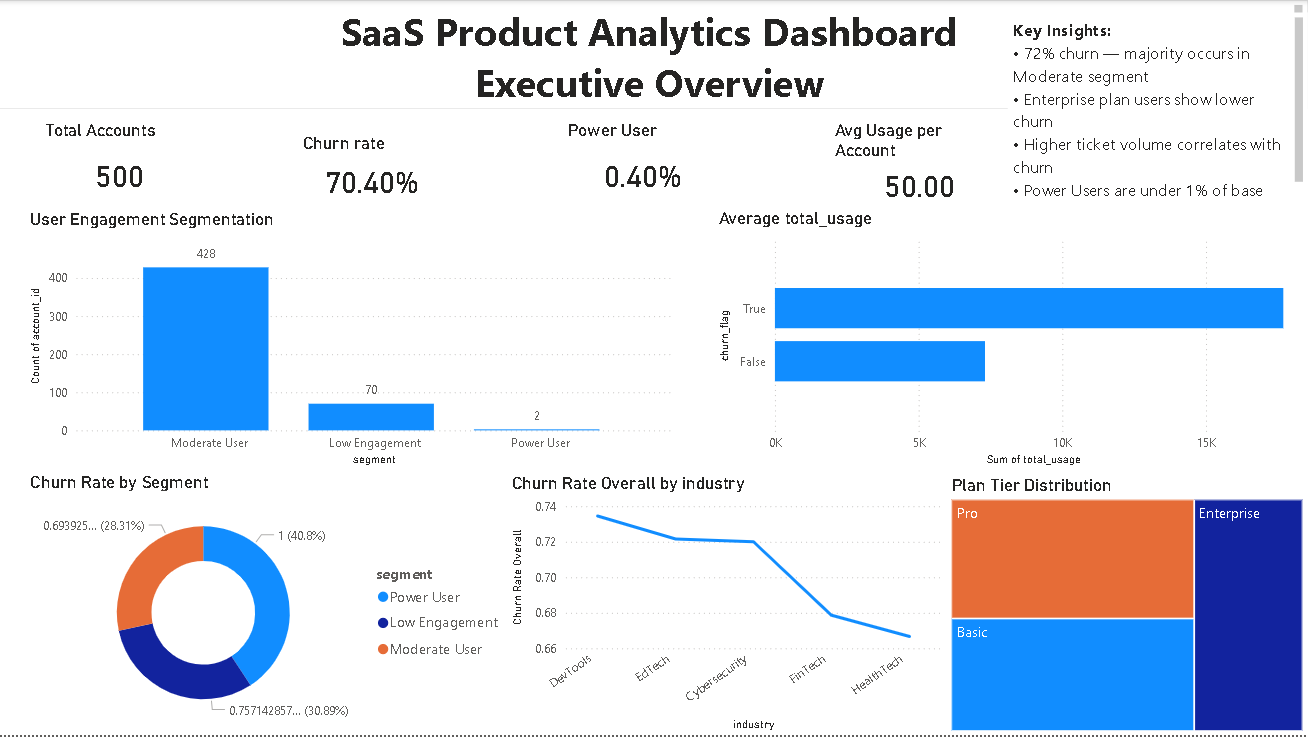

The dashboard page shown, as its layout file describes it:
{"tool":"powerbi","page":{"name":"Page 1","canvas":[1280,720],"ordinal":0},"visuals":[{"type":"textbox","box":[0,0,1280.3,106.8],"z":0},{"type":"card","title":"Total Accounts","fields":{"Values":["Count(account_analysis_table.account_id)"]},"box":[40.7,117,153.8,87.7],"z":1000},{"type":"card","title":"Churn rate","fields":{"Values":["account_analysis_table.Churn Rate"]},"box":[292.4,129.7,144.9,75],"z":2000},{"type":"clusteredColumnChart","title":"User Engagement Segmentation","fields":{"Category":["account_analysis_table.segment"],"Y":["CountNonNull(account_analysis_table.account_id)"]},"box":[25.7,204.2,638.3,256.8],"z":3000},{"type":"card","title":"Power User ","fields":{"Values":["account_analysis_table.Power User %"]},"box":[551.8,117,157.6,87.7],"z":4000},{"type":"card","title":"Avg Usage per Account","fields":{"Values":["account_analysis_table.Avg Usage per Account"]},"box":[813.7,117,174.2,87.7],"z":5000},{"type":"donutChart","title":"Churn Rate by Segment","fields":{"Category":["account_analysis_table.segment"],"Y":["account_analysis_table.Churn Rate by Segment"]},"box":[25.4,461.5,471.7,258.1],"z":6000},{"type":"barChart","title":"Average total_usage","fields":{"Category":["account_analysis_table.churn_flag"],"Y":["Sum(account_analysis_table.total_usage)"]},"box":[699.5,203,580.8,258],"z":7000},{"type":"lineChart","fields":{"Category":["account_analysis_table.industry"],"Y":["account_analysis_table.Churn Rate Overall"]},"box":[497,462,430,258],"z":8000},{"type":"treemap","title":"Plan Tier Distribution","fields":{"Group":["account_analysis_table.plan_tier"],"Values":["CountNonNull(account_analysis_table.account_id)"]},"box":[926.9,464.7,353.4,255.6],"z":9000},{"type":"textbox","box":[986.8,12.2,293.5,188.3],"z":9001}]}

Visuals, with their boxes in screenshot pixels (x1, y1, x2, y2), scaled from the page's 1280x720 canvas onto the 1308x737 screenshot:
textbox: <bbox>0, 0, 1307, 109</bbox>
"Total Accounts" card: <bbox>42, 120, 199, 210</bbox>
"Churn rate" card: <bbox>299, 133, 447, 210</bbox>
"User Engagement Segmentation" clusteredColumnChart: <bbox>26, 209, 679, 472</bbox>
"Power User " card: <bbox>564, 120, 725, 210</bbox>
"Avg Usage per Account" card: <bbox>831, 120, 1010, 210</bbox>
"Churn Rate by Segment" donutChart: <bbox>26, 472, 508, 736</bbox>
"Average total_usage" barChart: <bbox>715, 208, 1307, 472</bbox>
lineChart - account_analysis_table.industry x account_analysis_table.Churn Rate Overall: <bbox>508, 473, 947, 736</bbox>
"Plan Tier Distribution" treemap: <bbox>947, 476, 1307, 736</bbox>
textbox: <bbox>1008, 12, 1307, 205</bbox>
